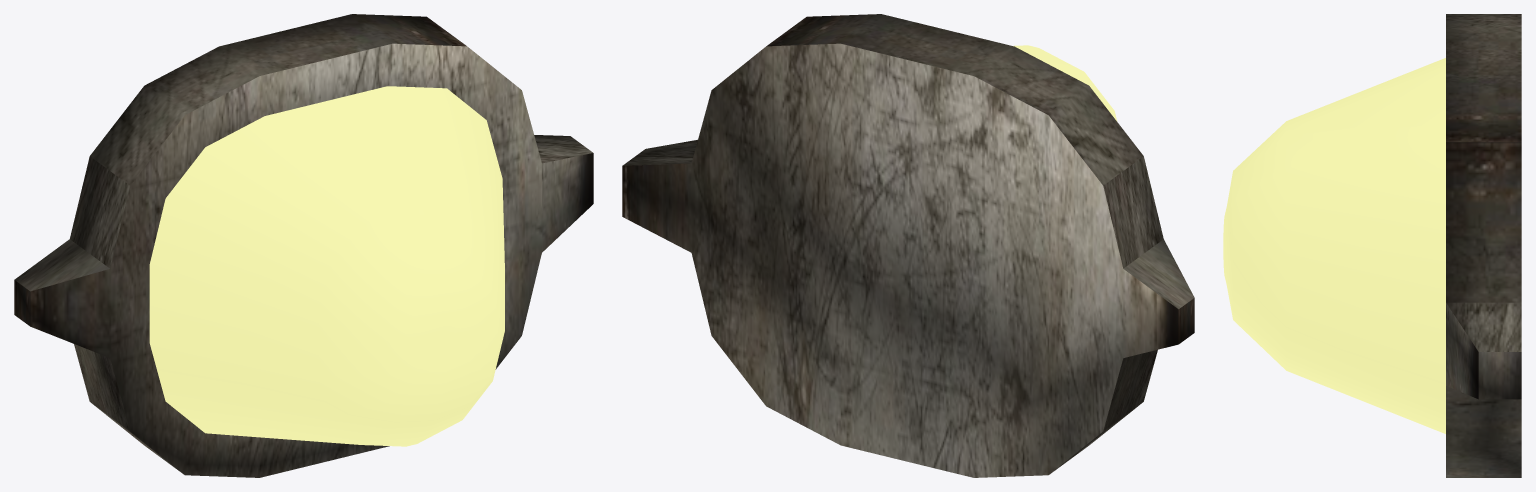
The model's file is luz_puzzle.fbx.
3 renders of one model, left to right at view 1: azimuth 30°, elevation 25°; view 2: azimuth 150°, elevation 25°; view 3: azimuth 270°, elevation 25°, orthographic. The views are drawn at different scales.
Visible parts, largest first — view 1: luz_puzzle, soporte_luz_puzzle; view 2: soporte_luz_puzzle, luz_puzzle; view 3: luz_puzzle, soporte_luz_puzzle.
Part boxes in pixels (x1,y1,x2,y2): luz_puzzle: (149, 86, 504, 446); soporte_luz_puzzle: (14, 14, 593, 477); soporte_luz_puzzle: (622, 14, 1194, 477); luz_puzzle: (1013, 45, 1117, 121); luz_puzzle: (1223, 58, 1445, 433); soporte_luz_puzzle: (1446, 14, 1521, 477).
Size of the model in its own units: 21.39 by 14.76 by 10.66.
